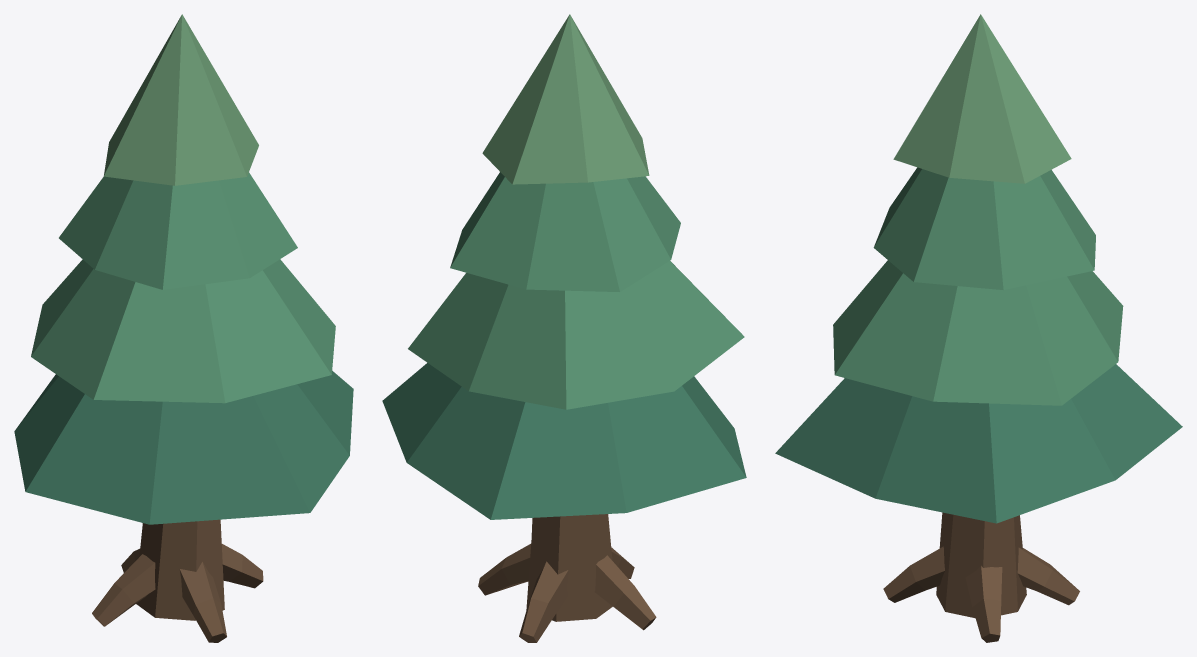
File: Cozy_Tree_Large_02_TallSpruce.fbx
3 views of the same model, side by side, from view 1: azimuth 30°, elevation 25°; view 2: azimuth 150°, elevation 25°; view 3: azimuth 270°, elevation 25° (orthographic).
Parts seen in each view (by area): view 1: Cozy_Tree_Large_02_TallSpruce; view 2: Cozy_Tree_Large_02_TallSpruce; view 3: Cozy_Tree_Large_02_TallSpruce.
Boxes of the visible parts, x1,y1,x2,y2 form: Cozy_Tree_Large_02_TallSpruce: (14, 14, 353, 642); Cozy_Tree_Large_02_TallSpruce: (382, 14, 746, 642); Cozy_Tree_Large_02_TallSpruce: (775, 14, 1182, 642).
Size of the model in its own units: 3.08 by 5.06 by 3.16.
